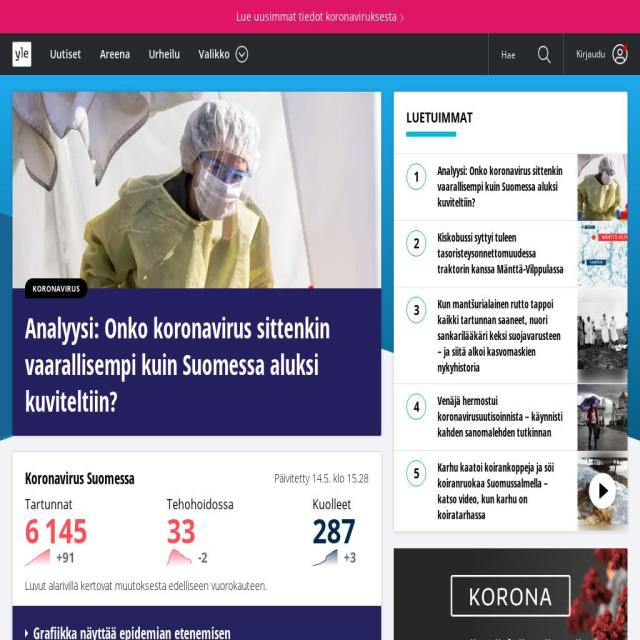button: (12, 91, 382, 436), (0, 0, 640, 33), (393, 287, 628, 375), (393, 451, 628, 522), (393, 154, 628, 213), (393, 384, 628, 443), (393, 221, 628, 279), (564, 33, 640, 75), (25, 278, 87, 300), (532, 33, 563, 75), (90, 42, 140, 66), (50, 42, 91, 66), (139, 42, 180, 66), (13, 42, 32, 66)
field: (488, 33, 532, 75)
heading: (25, 309, 376, 420), (437, 296, 565, 375), (437, 459, 565, 523), (437, 162, 565, 211), (437, 229, 565, 278), (437, 392, 565, 441), (406, 108, 615, 137), (25, 469, 197, 488), (166, 496, 234, 513), (25, 496, 87, 513), (312, 496, 357, 513)
image: (12, 92, 382, 288), (393, 548, 628, 640), (578, 287, 628, 383), (578, 451, 628, 531), (578, 153, 628, 221), (578, 220, 628, 288), (578, 383, 628, 451), (578, 302, 628, 369), (578, 154, 628, 220), (578, 221, 628, 287), (578, 384, 628, 450), (578, 458, 628, 524), (587, 470, 618, 512), (166, 549, 192, 567), (25, 549, 50, 567), (313, 549, 338, 567)
label: (199, 33, 249, 75)
link: (25, 621, 230, 640)
text: (25, 578, 369, 594), (25, 508, 87, 554), (313, 508, 357, 554), (166, 508, 196, 554), (274, 473, 370, 485), (191, 549, 234, 570), (50, 549, 88, 570), (337, 549, 357, 570)
